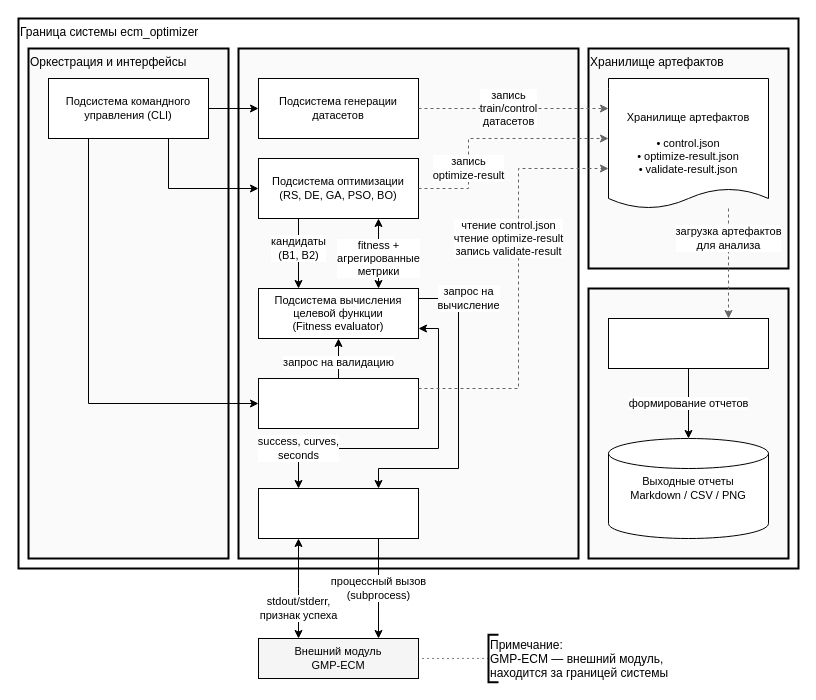
Some shapes in this 816 by 700 pixel diagram are drawn without their labels. Here are the shapes that lost their labels. From the top down, the box of each, then its label:
(237, 47, 579, 559): Вычислительное ядро
(608, 318, 768, 368): Подсистема аналитики и отчетности
(258, 378, 418, 428): Подсистема валидации
(587, 287, 789, 559): Аналитика и отчетность
(258, 488, 418, 538): Подсистема запуска ECM (ECM runner)
